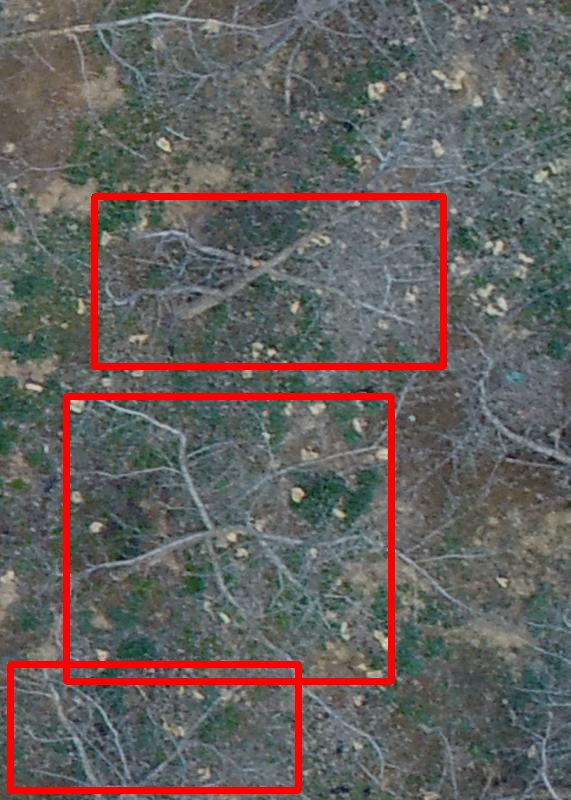apple: (66, 396, 391, 681), (94, 196, 443, 366), (10, 664, 298, 790)
